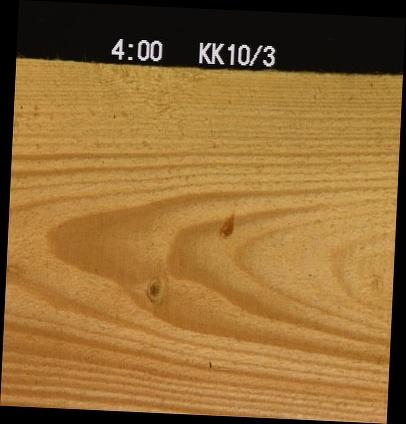sound_knot: (141, 272, 166, 303)
